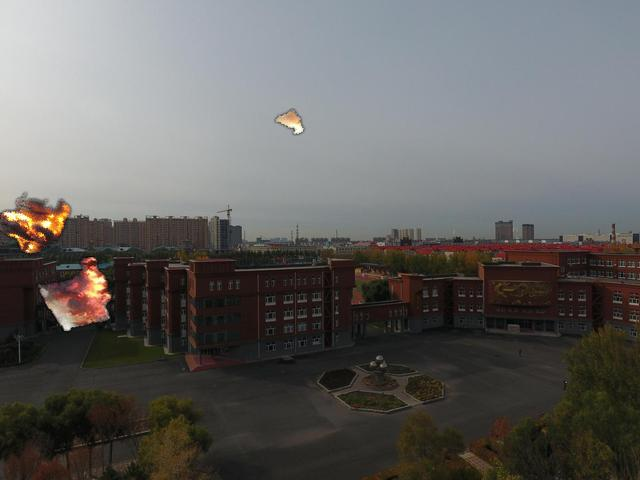fire: (38, 257, 111, 330), (1, 190, 71, 255), (274, 108, 305, 134)
